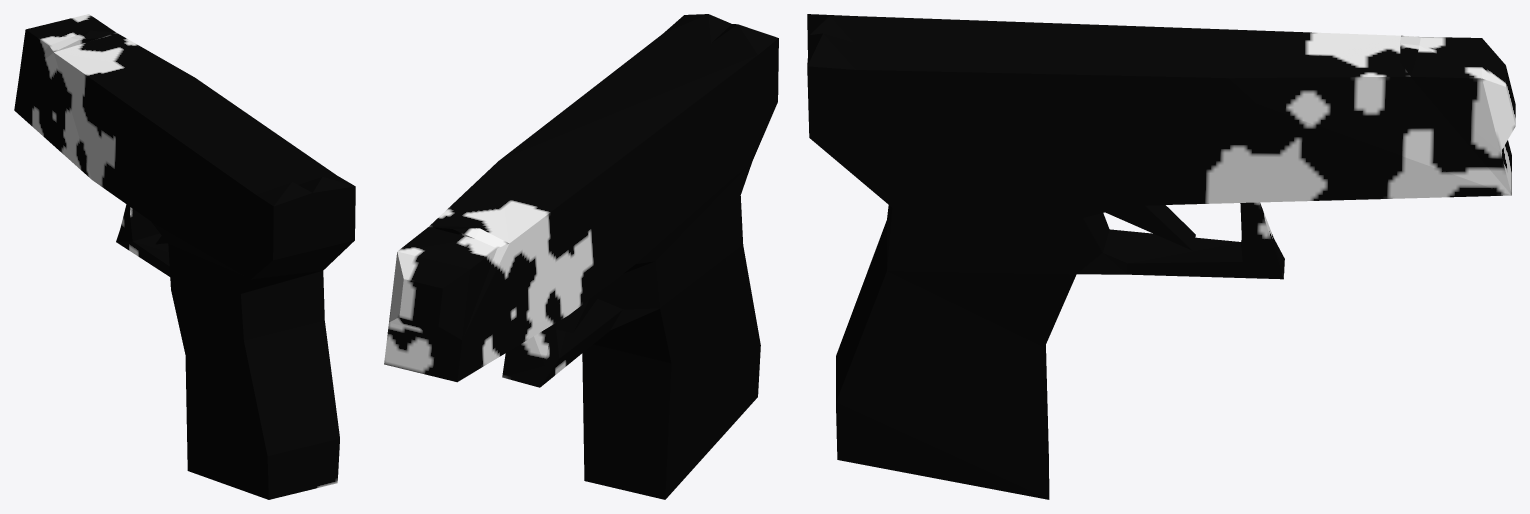
File: PistolLowPoly.fbx
The picture shows the model from 3 angles, left to right: view 1: azimuth 30°, elevation 25°; view 2: azimuth 150°, elevation 25°; view 3: azimuth 270°, elevation 25°; orthographic projection. The views are drawn at different scales.
Visible parts, largest first — view 1: Cube.001; view 2: Cube.001; view 3: Cube.001.
Part boxes in pixels (box(x1,y1,x2,y2)): Cube.001: box(14, 14, 355, 499); Cube.001: box(384, 14, 778, 499); Cube.001: box(807, 14, 1515, 499).
Bounding box in the file's own units: 3.77 × 15.14 × 21.33.
1 material, 1 textured.
